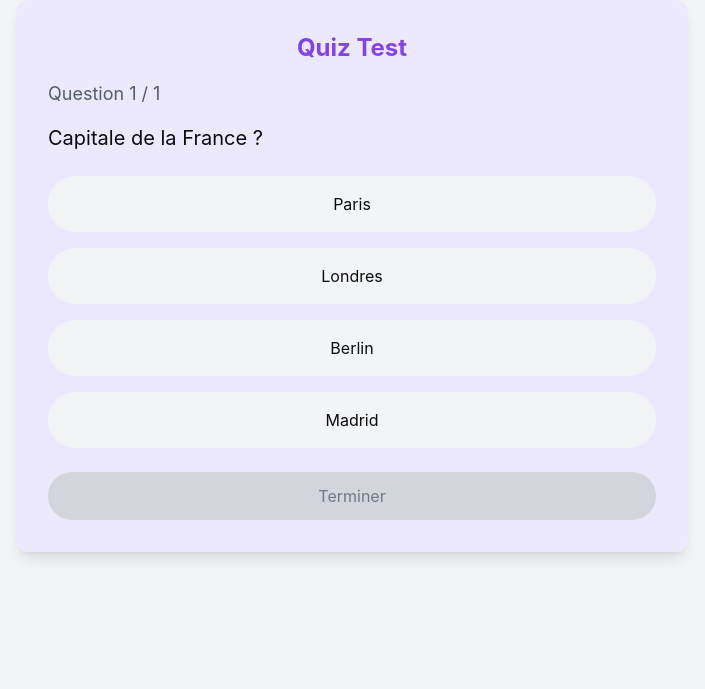
Test: <Quiz /> › Interactions utilisateur › affiche le feedback pour une mauvaise réponse
The width and height of the screenshot is (705, 689).
Expected: the heading "Quiz Test" is shown, [297,33,407,62]
// Sélectionner une mauvaise réponse
Click the button "Londres" at (352, 276), box [48,248,656,304]
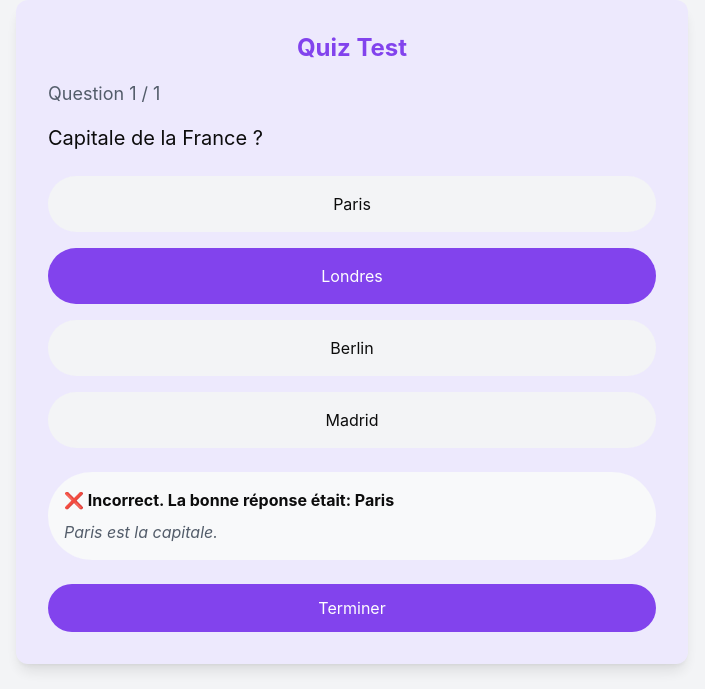
Now the text "❌ Incorrect. La bonne réponse était: Paris" is shown, box [64,490,394,510]
